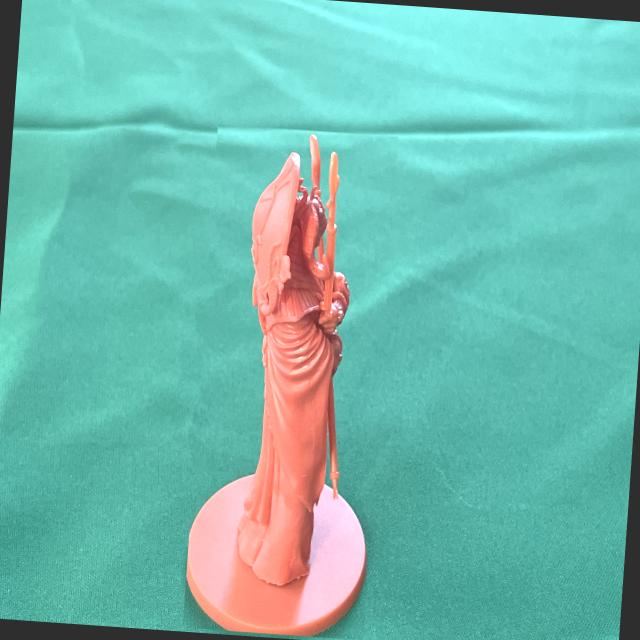amon: (182, 124, 398, 640)
